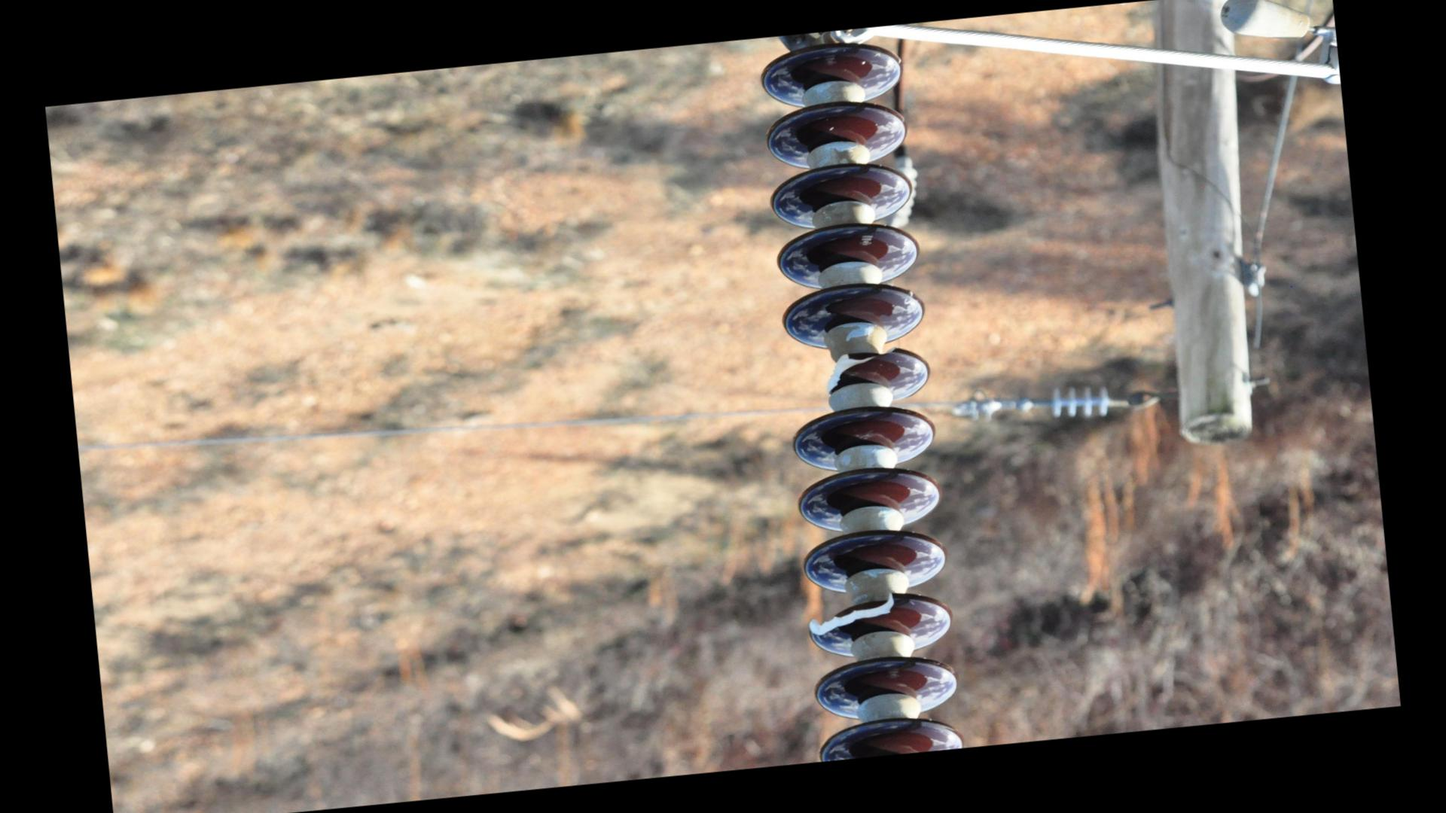damper: (1213, 1, 1341, 102)
